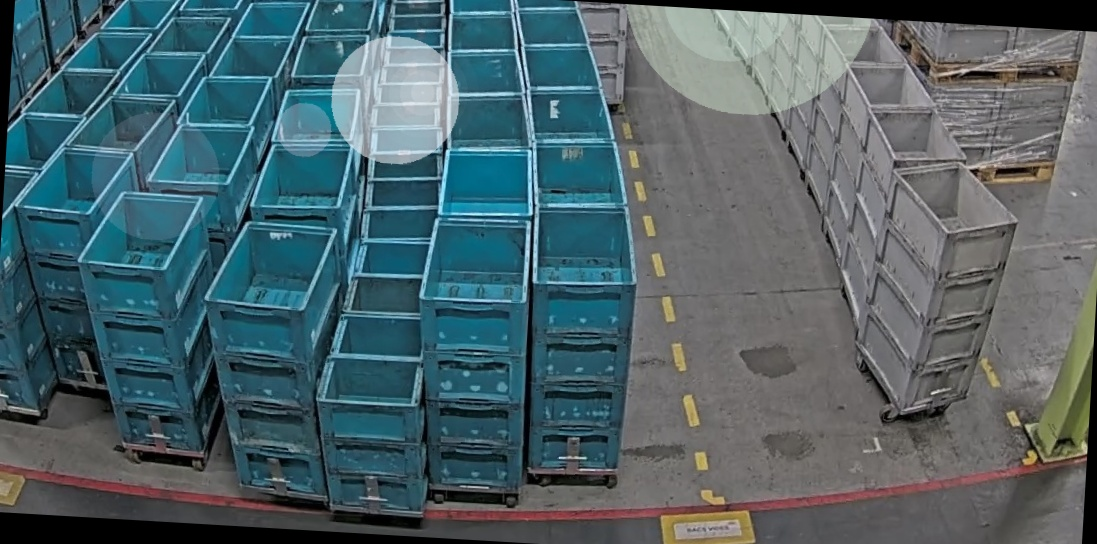4G: (850, 156, 1021, 422)
B4: (65, 188, 234, 458), (192, 220, 348, 501), (406, 216, 537, 493), (1, 144, 142, 389), (518, 201, 641, 476)
B8: (309, 310, 437, 518)
